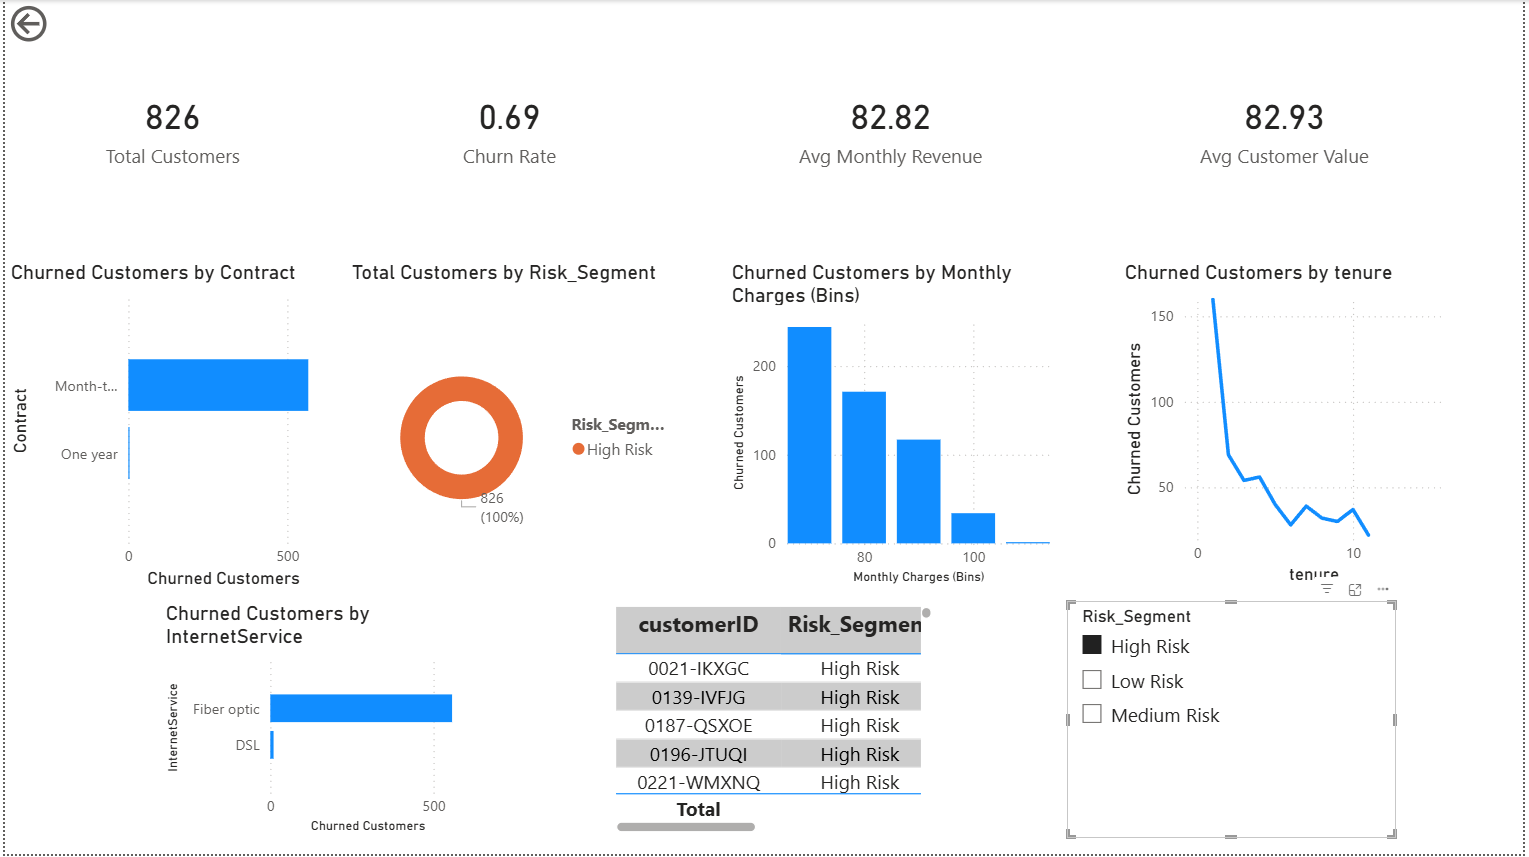

The page's visual inventory and layout, read from the dashboard file:
{"tool":"powerbi","page":{"name":"Page 1","canvas":[1280,720],"ordinal":0},"visuals":[{"type":"card","fields":{"Values":["telco_churn_analysis churn_analysis.Total Customers"]},"box":[16.3,0,251,214.4],"z":3},{"type":"card","fields":{"Values":["telco_churn_analysis churn_analysis.Churn Rate"]},"box":[284.6,0,280.8,214.4],"z":4},{"type":"card","fields":{"Values":["telco_churn_analysis churn_analysis.Avg Monthly Revenue"]},"box":[591.3,0,311.5,214.4],"z":5},{"type":"card","fields":{"Values":["telco_churn_analysis churn_analysis.Avg Customer Value"]},"box":[914.4,0,327.9,214.4],"z":6},{"type":"clusteredBarChart","fields":{"Category":["telco_churn_analysis churn_analysis.Contract"],"Y":["telco_churn_analysis churn_analysis.Churned Customers"]},"box":[0,219.2,279.8,280.8],"z":7},{"type":"donutChart","fields":{"Category":["telco_churn_analysis churn_analysis.Risk_Segment"],"Y":["telco_churn_analysis churn_analysis.Total Customers"]},"box":[287.5,219.2,277.9,280.8],"z":8},{"type":"lineStackedColumnComboChart","fields":{"Category":["telco_churn_analysis churn_analysis.Monthly Charges (Bins)"],"Y":["telco_churn_analysis churn_analysis.Churned Customers"]},"box":[607.7,219.2,277.9,277.9],"z":9},{"type":"lineChart","fields":{"Category":["telco_churn_analysis churn_analysis.tenure"],"Y":["telco_churn_analysis churn_analysis.Churned Customers"]},"box":[939.4,219.2,277.9,277.9],"z":10},{"type":"barChart","fields":{"Category":["telco_churn_analysis churn_analysis.InternetService"],"Y":["telco_churn_analysis churn_analysis.Churned Customers"]},"box":[130.8,506.7,273.1,200],"z":11},{"type":"tableEx","fields":{"Values":["telco_churn_analysis churn_analysis.customerID","telco_churn_analysis churn_analysis.Risk_Segment","Sum(telco_churn_analysis churn_analysis.MonthlyCharges)","telco_churn_analysis churn_analysis.Churn"]},"box":[509.6,506.7,276.9,200],"z":12},{"type":"actionButton","box":[0,0,100,40],"z":13},{"type":"slicer","fields":{"Values":["telco_churn_analysis churn_analysis.Risk_Segment"]},"box":[895.2,506.7,277.9,200],"z":14}]}

Visuals, with their boxes in screenshot pixels (x1, y1, x2, y2), scaled from the page's 1280x720 canvas onto the 1529x857 screenshot:
card - telco_churn_analysis churn_analysis.Total Customers: select_region(19, 0, 319, 255)
card - telco_churn_analysis churn_analysis.Churn Rate: select_region(340, 0, 675, 255)
card - telco_churn_analysis churn_analysis.Avg Monthly Revenue: select_region(706, 0, 1078, 255)
card - telco_churn_analysis churn_analysis.Avg Customer Value: select_region(1092, 0, 1484, 255)
clusteredBarChart - telco_churn_analysis churn_analysis.Contract x telco_churn_analysis churn_analysis.Churned Customers: select_region(0, 261, 334, 595)
donutChart - telco_churn_analysis churn_analysis.Risk_Segment x telco_churn_analysis churn_analysis.Total Customers: select_region(343, 261, 675, 595)
lineStackedColumnComboChart - telco_churn_analysis churn_analysis.Monthly Charges (Bins) x telco_churn_analysis churn_analysis.Churned Customers: select_region(726, 261, 1058, 592)
lineChart - telco_churn_analysis churn_analysis.tenure x telco_churn_analysis churn_analysis.Churned Customers: select_region(1122, 261, 1454, 592)
barChart - telco_churn_analysis churn_analysis.InternetService x telco_churn_analysis churn_analysis.Churned Customers: select_region(156, 603, 482, 841)
tableEx - telco_churn_analysis churn_analysis.customerID x telco_churn_analysis churn_analysis.Risk_Segment: select_region(609, 603, 939, 841)
actionButton: select_region(0, 0, 119, 48)
slicer - telco_churn_analysis churn_analysis.Risk_Segment: select_region(1069, 603, 1401, 841)
